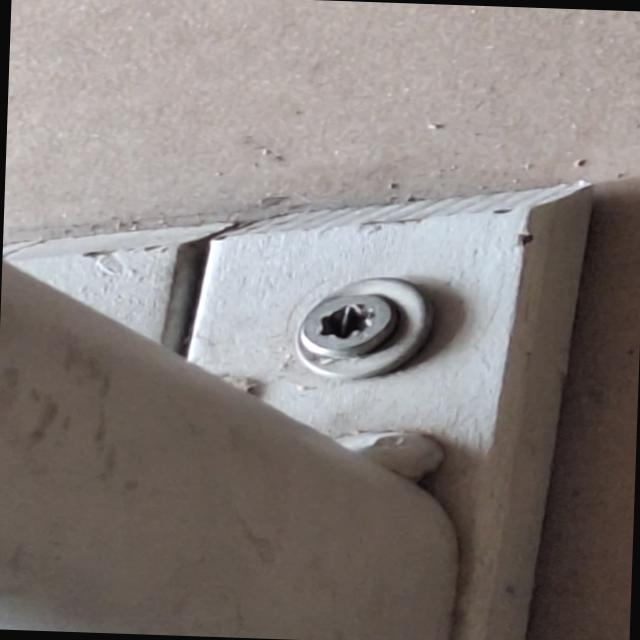Torx: (298, 282, 404, 364)
